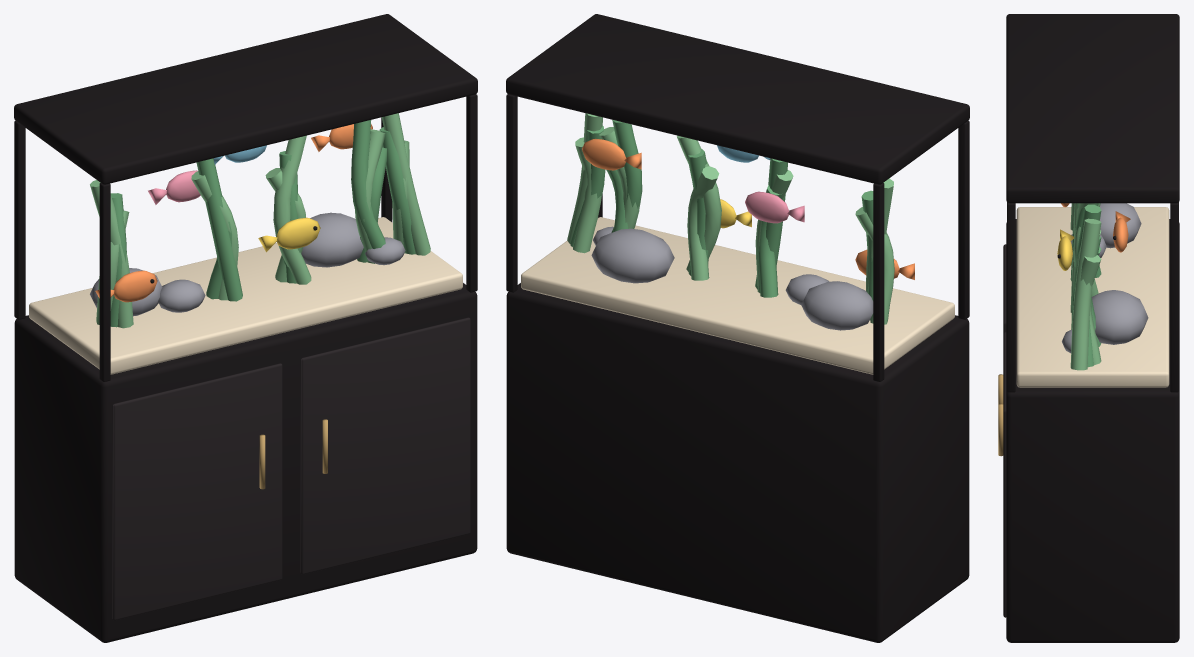
The model's file is furn_aquarium.glb.
The picture shows the model from 3 angles, left to right: view 1: azimuth 30°, elevation 25°; view 2: azimuth 150°, elevation 25°; view 3: azimuth 270°, elevation 25°; orthographic projection. The views are drawn at different scales.
Parts seen in each view (by area): view 1: Cone; view 2: Cone; view 3: Cone.
Part boxes in pixels (<box>): Cone: <box>14,14,477,642</box>; Cone: <box>506,14,969,642</box>; Cone: <box>998,14,1179,642</box>.
Size of the model in its own units: 1.2 by 1.45 by 0.523.
